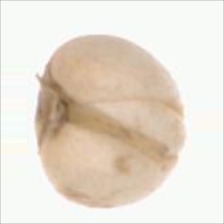L5: (65, 92, 186, 166), (31, 59, 78, 159)
L6: (31, 34, 194, 209)
